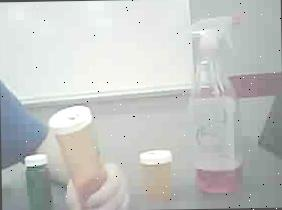Bottle A: (58, 99, 114, 206)
Bottle B: (140, 139, 174, 205)
Bottle C: (24, 151, 57, 210)
hazard: (182, 17, 252, 200)
